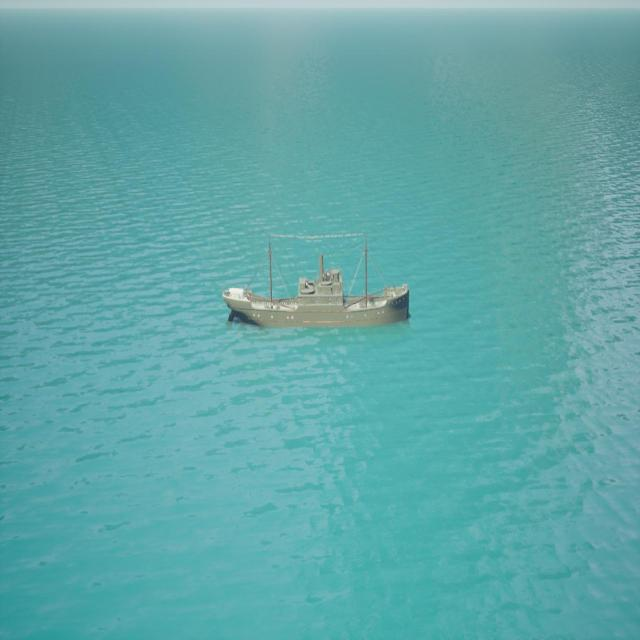fishing ship: (224, 236, 412, 332)
